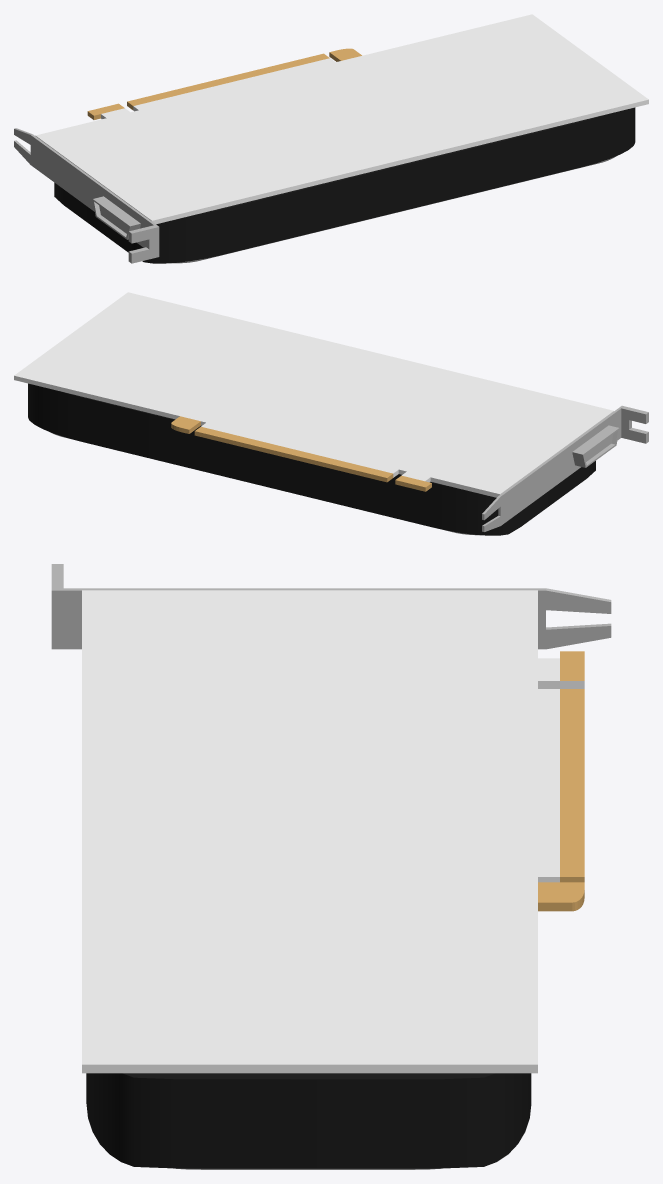
File: 10_GP_720_GPU.glb
3 views of the same model, one above another, from view 1: azimuth 30°, elevation 25°; view 2: azimuth 150°, elevation 25°; view 3: azimuth 270°, elevation 25° (orthographic). The views are drawn at different scales.
Visible parts, largest first — view 1: Cube174_4, Cube174, Cube174_6, Cube174_5, Cube174_3; view 2: Cube174_4, Cube174, Cube174_6, Cube174_5; view 3: Cube174_4, Cube174, Cube174_5, Cube174_6.
Part boxes in pixels (<box>): Cube174_4: <box>35,14,648,224</box>; Cube174: <box>54,107,635,263</box>; Cube174_6: <box>14,128,159,263</box>; Cube174_5: <box>87,48,361,119</box>; Cube174_3: <box>172,156,616,263</box>; Cube174_4: <box>14,292,613,497</box>; Cube174: <box>28,383,595,535</box>; Cube174_6: <box>482,405,648,531</box>; Cube174_5: <box>171,416,431,491</box>; Cube174_4: <box>82,590,584,1073</box>; Cube174: <box>86,1073,531,1168</box>; Cube174_5: <box>538,651,584,911</box>; Cube174_6: <box>51,564,611,649</box>.
Size of the model in its own units: 1.04 by 0.1036 by 0.4905.
